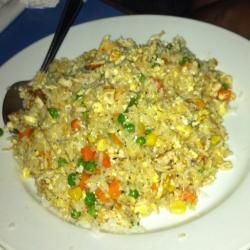rice: (35, 57, 215, 210)
